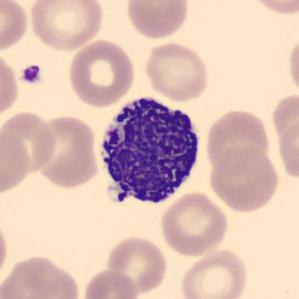Basophil: (91, 89, 208, 214)
Platelets: (20, 62, 43, 86)
RBC: (206, 143, 282, 214), (66, 37, 137, 109), (35, 113, 101, 189), (158, 190, 230, 258), (204, 107, 272, 172), (142, 40, 211, 103), (104, 233, 170, 297), (26, 0, 106, 52), (0, 109, 60, 177), (0, 252, 83, 299), (178, 246, 250, 299), (1, 114, 35, 200), (124, 0, 191, 40), (272, 101, 299, 183), (81, 267, 139, 299), (0, 0, 31, 54), (0, 48, 21, 122), (285, 32, 299, 100), (245, 0, 299, 17), (0, 212, 11, 288)
